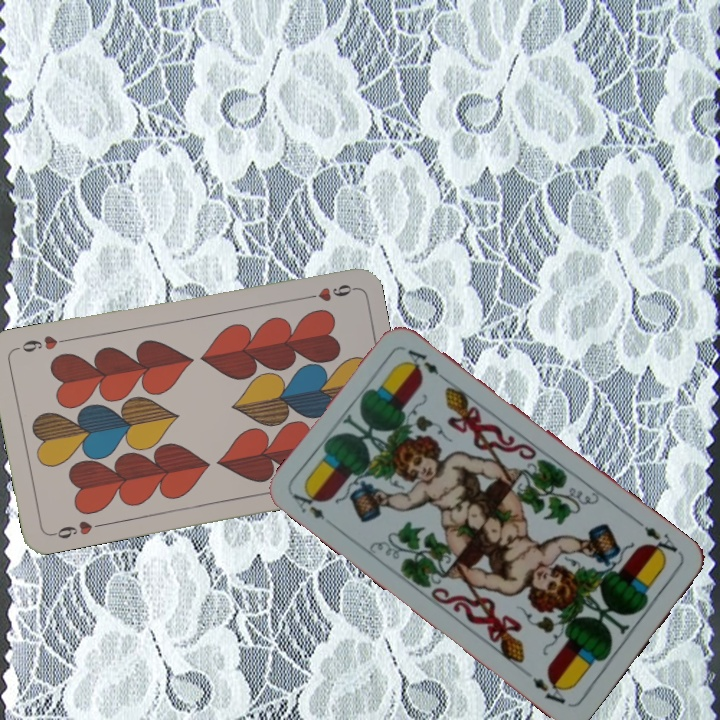EA: (640, 522, 684, 561), (288, 483, 328, 523)
H9: (47, 516, 106, 542), (297, 280, 356, 304)
